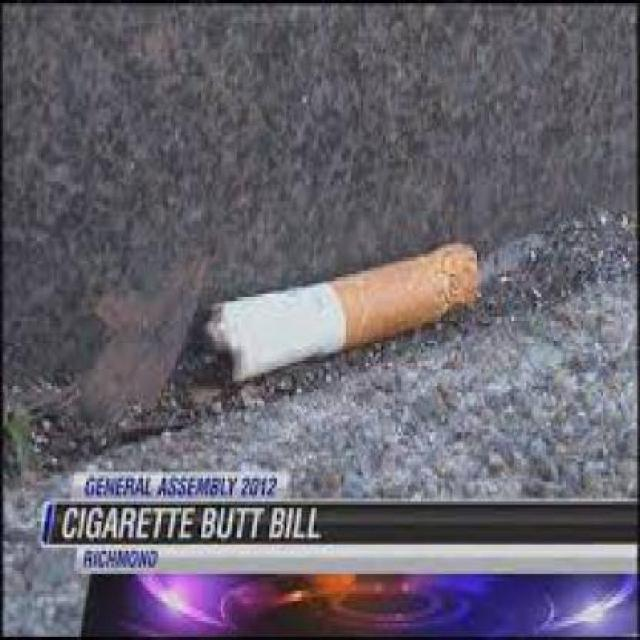cigarette: (198, 244, 484, 393)
